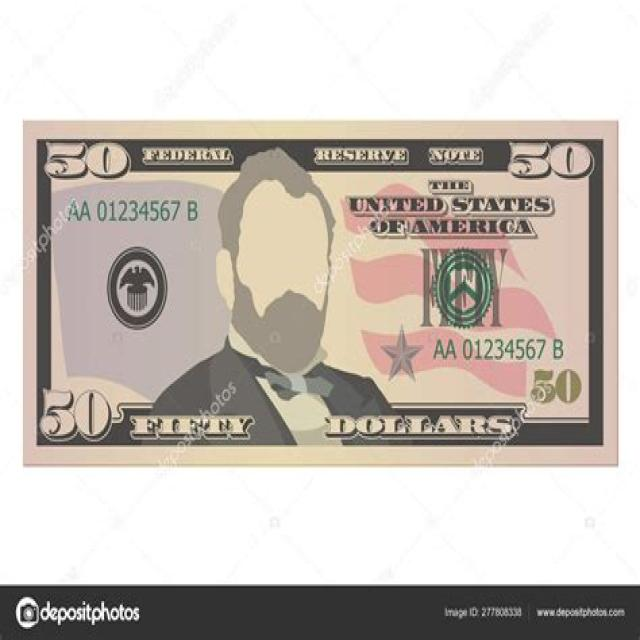Fifty: (24, 121, 617, 467)
